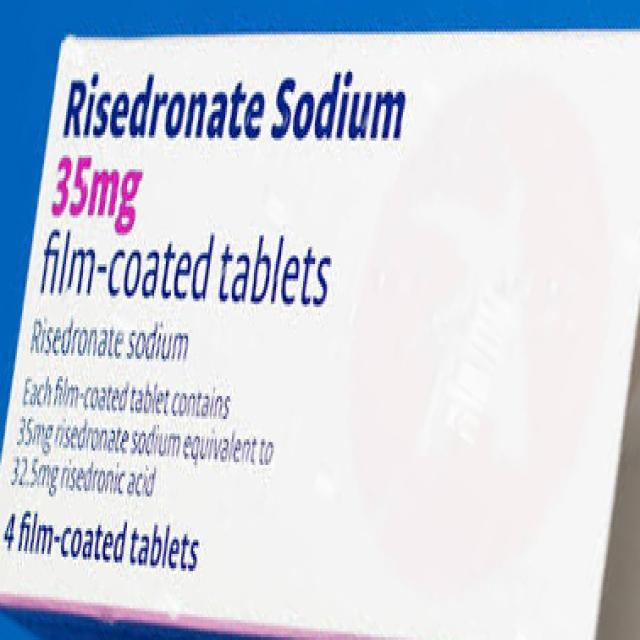drug-name: (60, 67, 415, 143)
